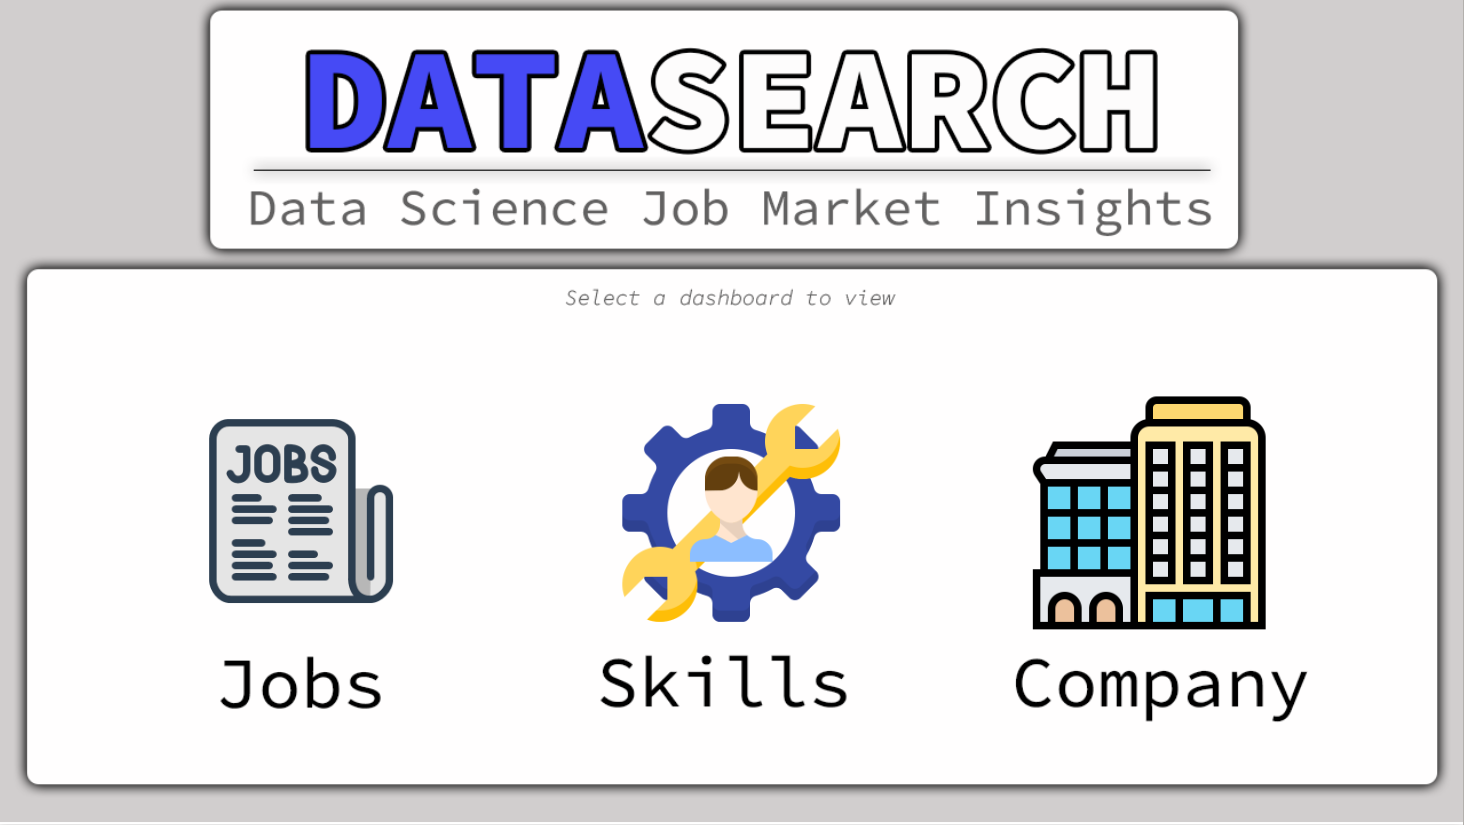

This screenshot's page, from the dashboard's own definition file:
{"tool":"powerbi","page":{"name":"Home","canvas":[1280,720],"ordinal":0},"visuals":[{"type":"image","box":[122.9,338.3,279.7,219.9],"z":0},{"type":"image","box":[500.7,338.3,279.7,219.9],"z":1},{"type":"image","box":[866.1,338.3,279.7,219.9],"z":2}]}

Visuals, with their boxes in screenshot pixels (x1, y1, x2, y2), scaled from the page's 1280x720 canvas onto the 1464x825 screenshot:
image: [left=141, top=388, right=460, bottom=640]
image: [left=573, top=388, right=893, bottom=640]
image: [left=991, top=388, right=1311, bottom=640]
